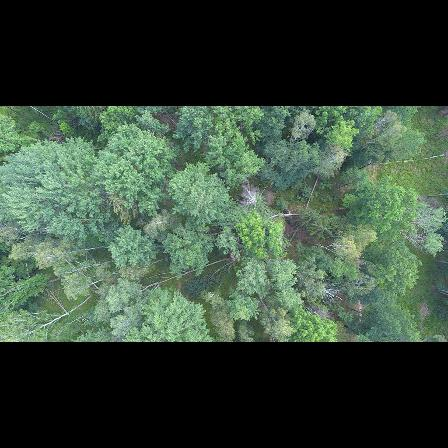Dead: (37, 282, 69, 316), (394, 225, 433, 252), (238, 182, 267, 213), (311, 237, 348, 261), (315, 276, 343, 304)
